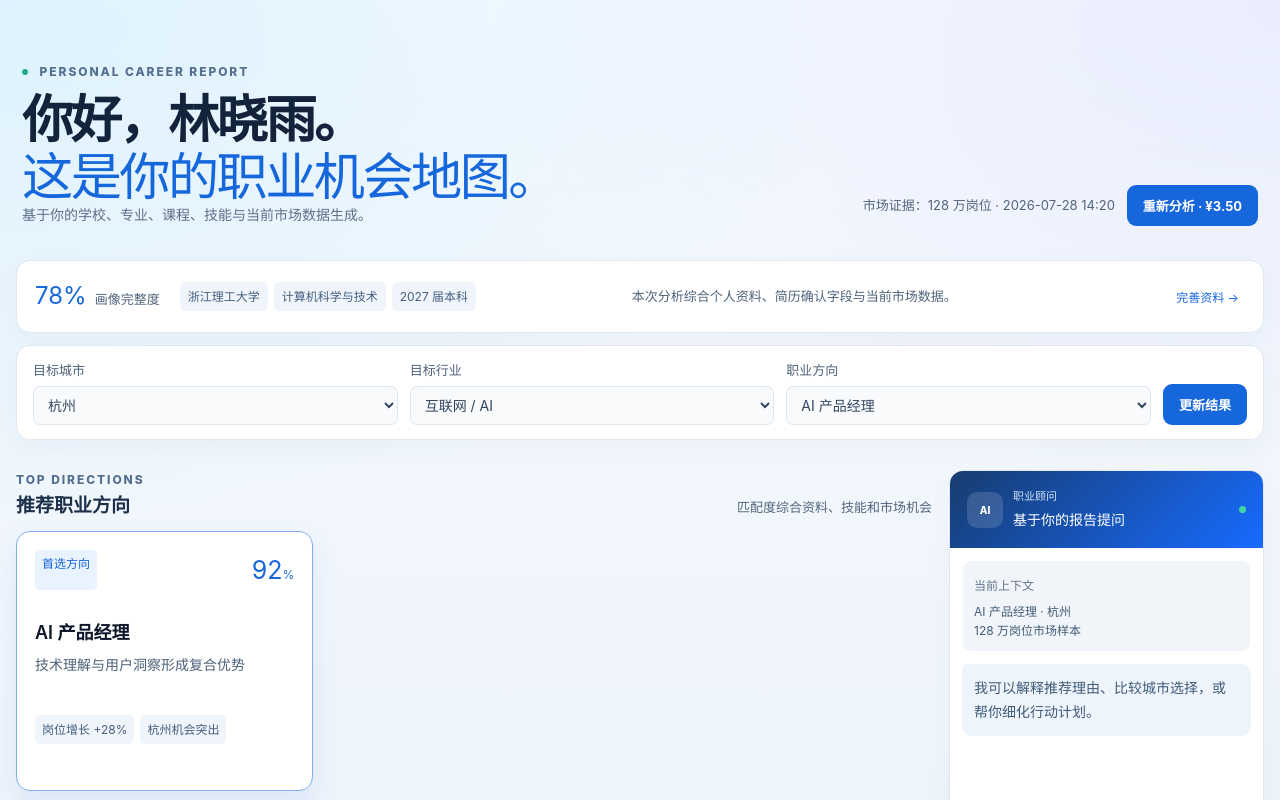
Scenario: CareerAnalysisView › shows the backend msg from the standard code/msg/data error envelope
Click the button with test id "generate-analysis": (1192, 206) [1127,185,1258,226]
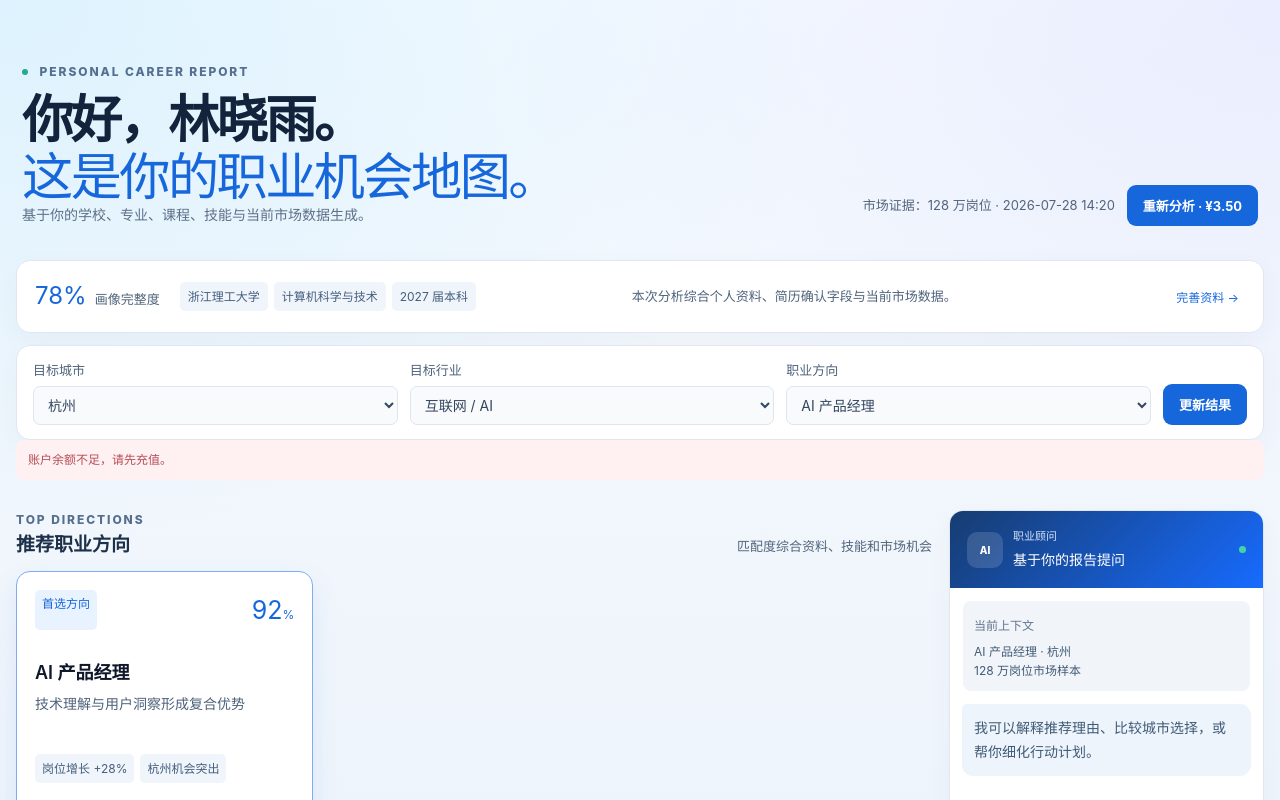
Expected: the text with class "error-message" reads "账户余额不足，请先充值。", [28,452,172,467]
